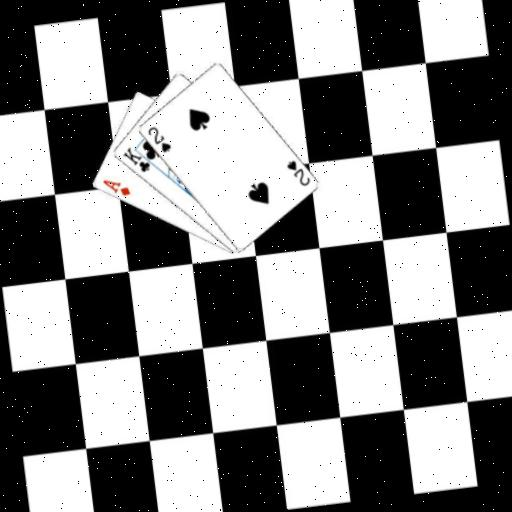2S: (143, 121, 173, 156), (283, 155, 312, 190)
AD: (99, 174, 132, 201)
KC: (119, 141, 159, 177)
